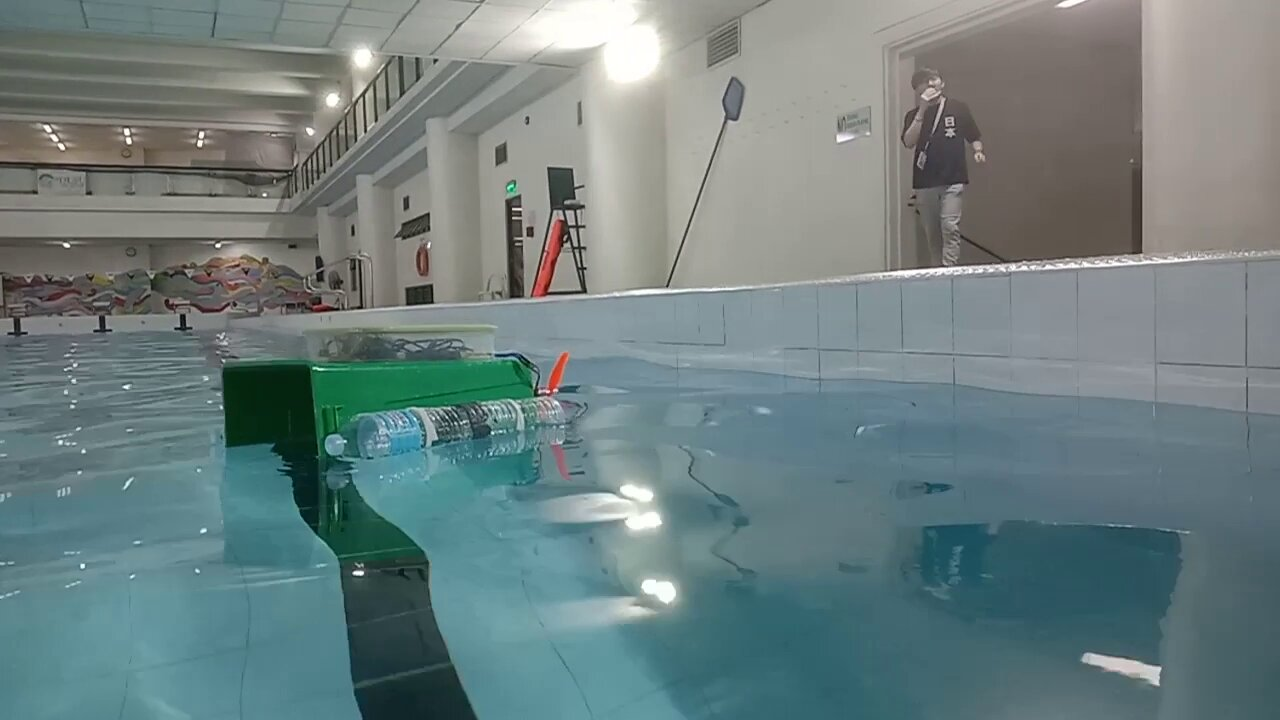drone: (221, 323, 570, 461)
